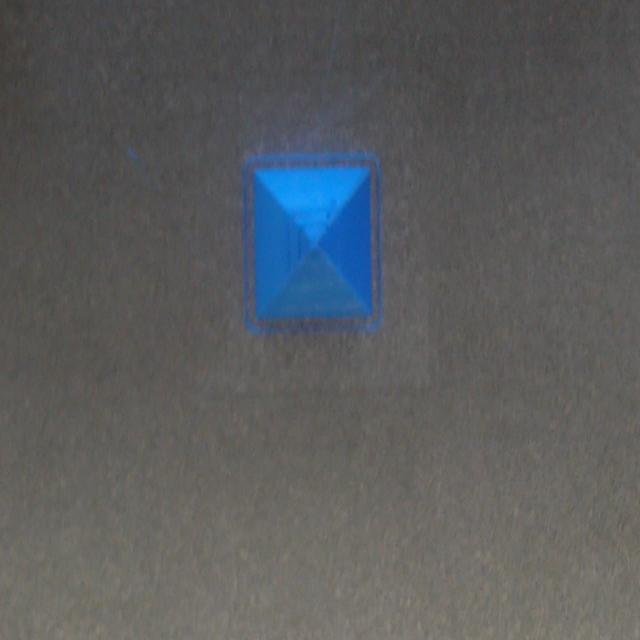mistake: (290, 203, 341, 248)
